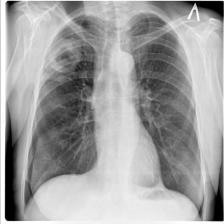tuberculosis: (17, 7, 209, 221)
